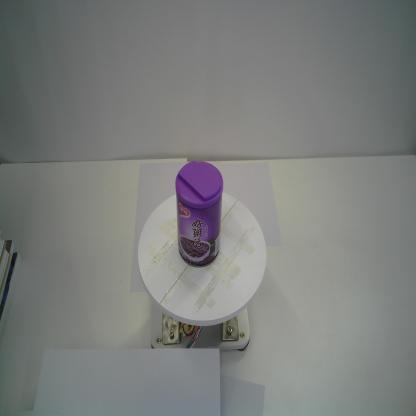Canned Food: (174, 159, 224, 268)
